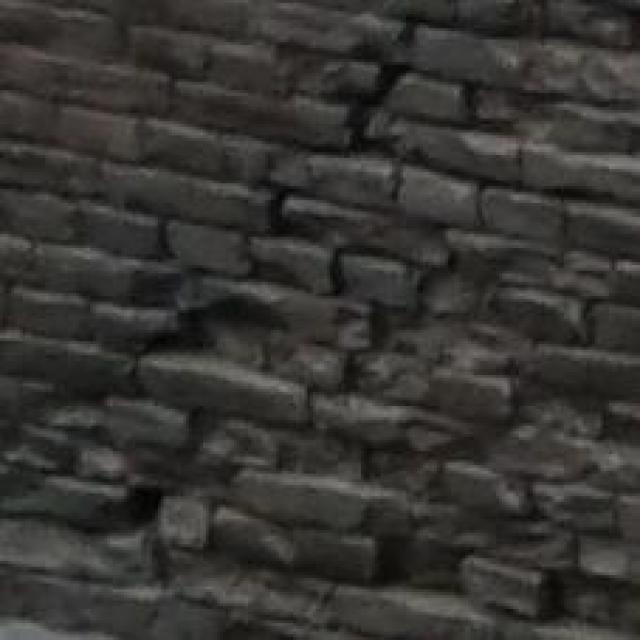Crack: (73, 0, 631, 640)
